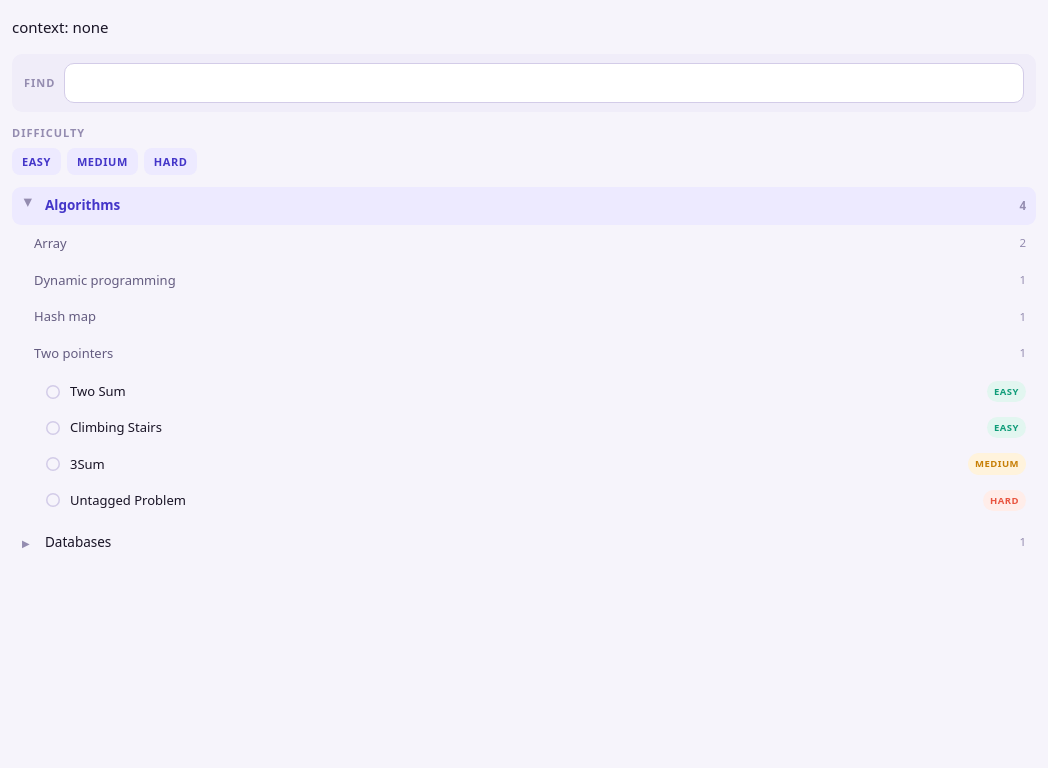
Scenario: TreeBrowser sidebarMode (issue: swe-practice-fs-build) › keeps an untagged item reachable directly under its open domain, with no pattern picked
Click the button "Untagged Problem Hard". click: (128, 500)
box: [16,482,1036,518]
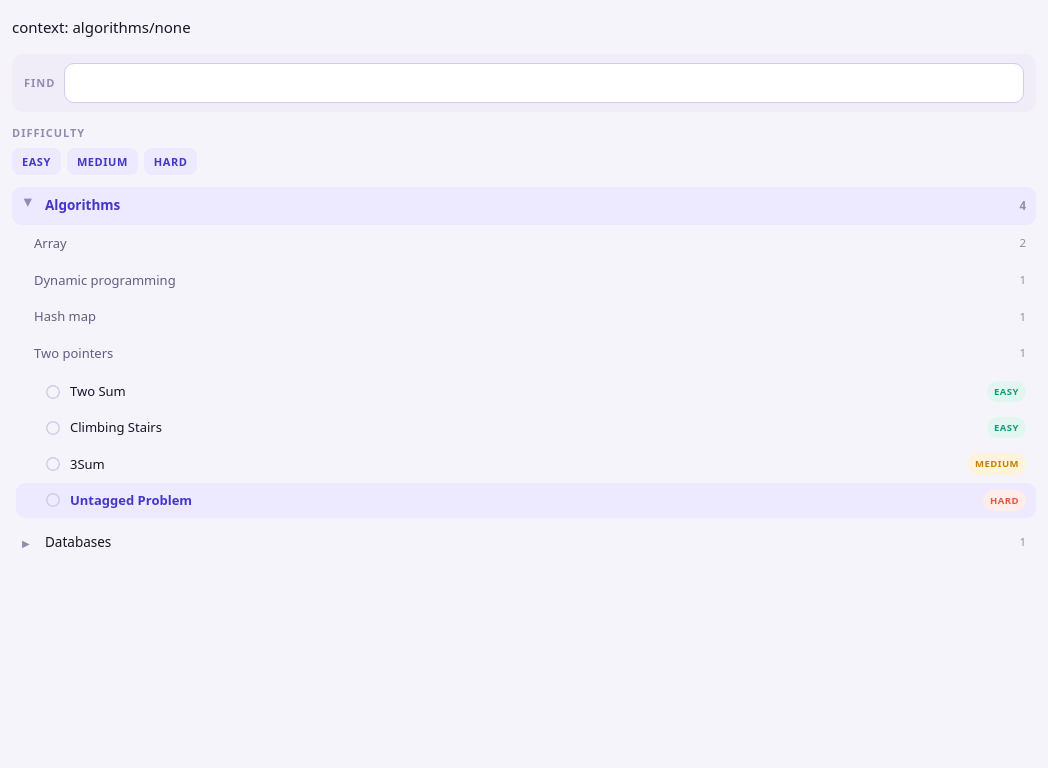
Check: the text "context: algorithms/none" is shown, box [12,17,191,37]
